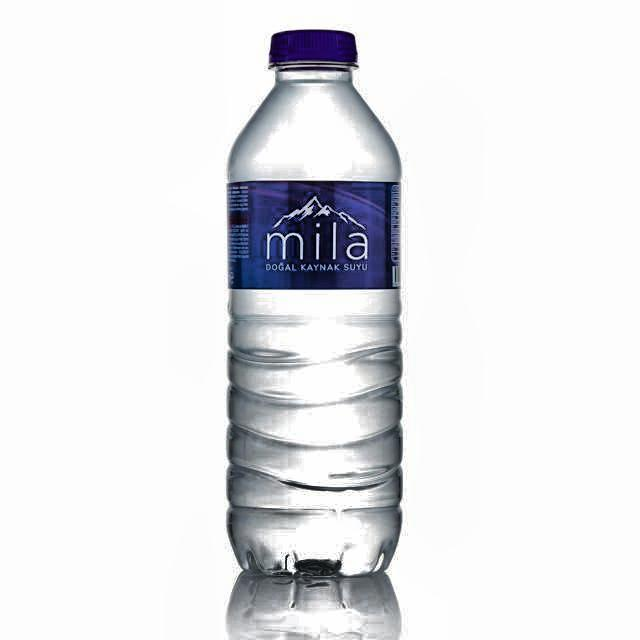plastic: (225, 29, 403, 600)
